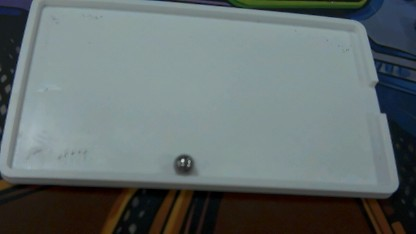ironball: (170, 147, 195, 178)
